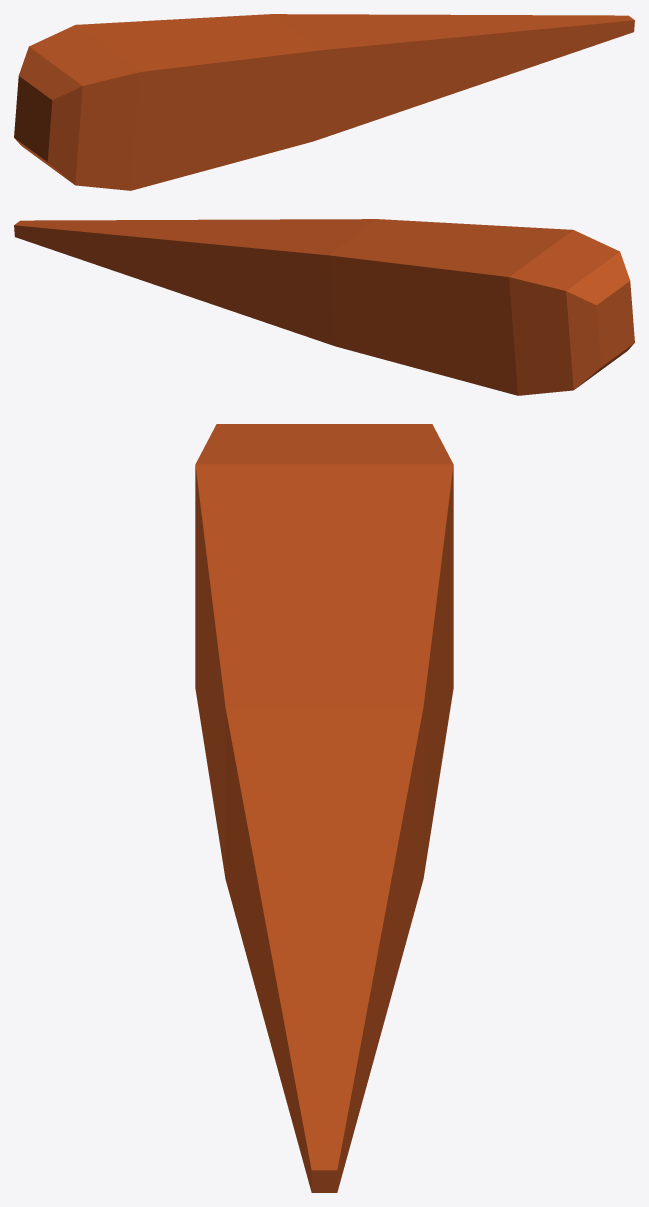
The model's file is carrot.fbx.
3 renders of one model, top to bottom at view 1: azimuth 30°, elevation 25°; view 2: azimuth 150°, elevation 25°; view 3: azimuth 270°, elevation 25°, orthographic. The views are drawn at different scales.
Parts seen in each view (by area): view 1: carrot; view 2: carrot; view 3: carrot.
Part boxes in pixels (x1=…): carrot: x1=14, y1=14, x2=634, y2=190; carrot: x1=14, y1=219, x2=634, y2=395; carrot: x1=195, y1=424, x2=453, y2=1192.
Bounding box in the file's own units: 28.18 × 5.34 × 5.24.
Materials: 1 (1 with a texture image).
